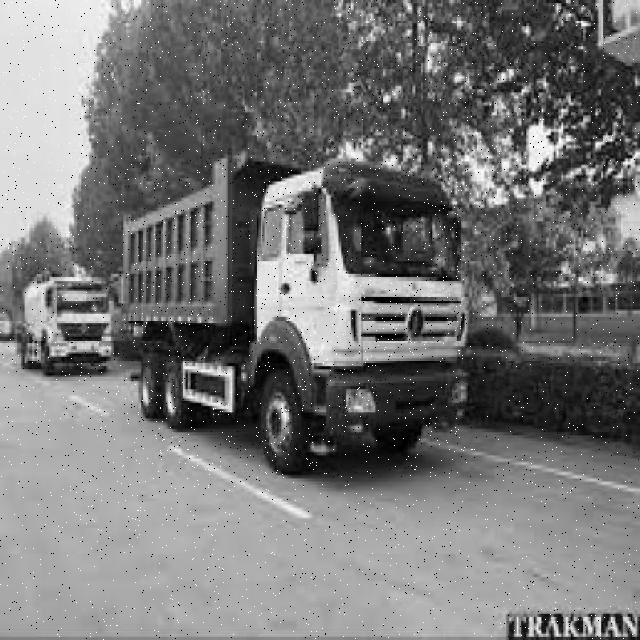Box Truck: (120, 156, 467, 478)
